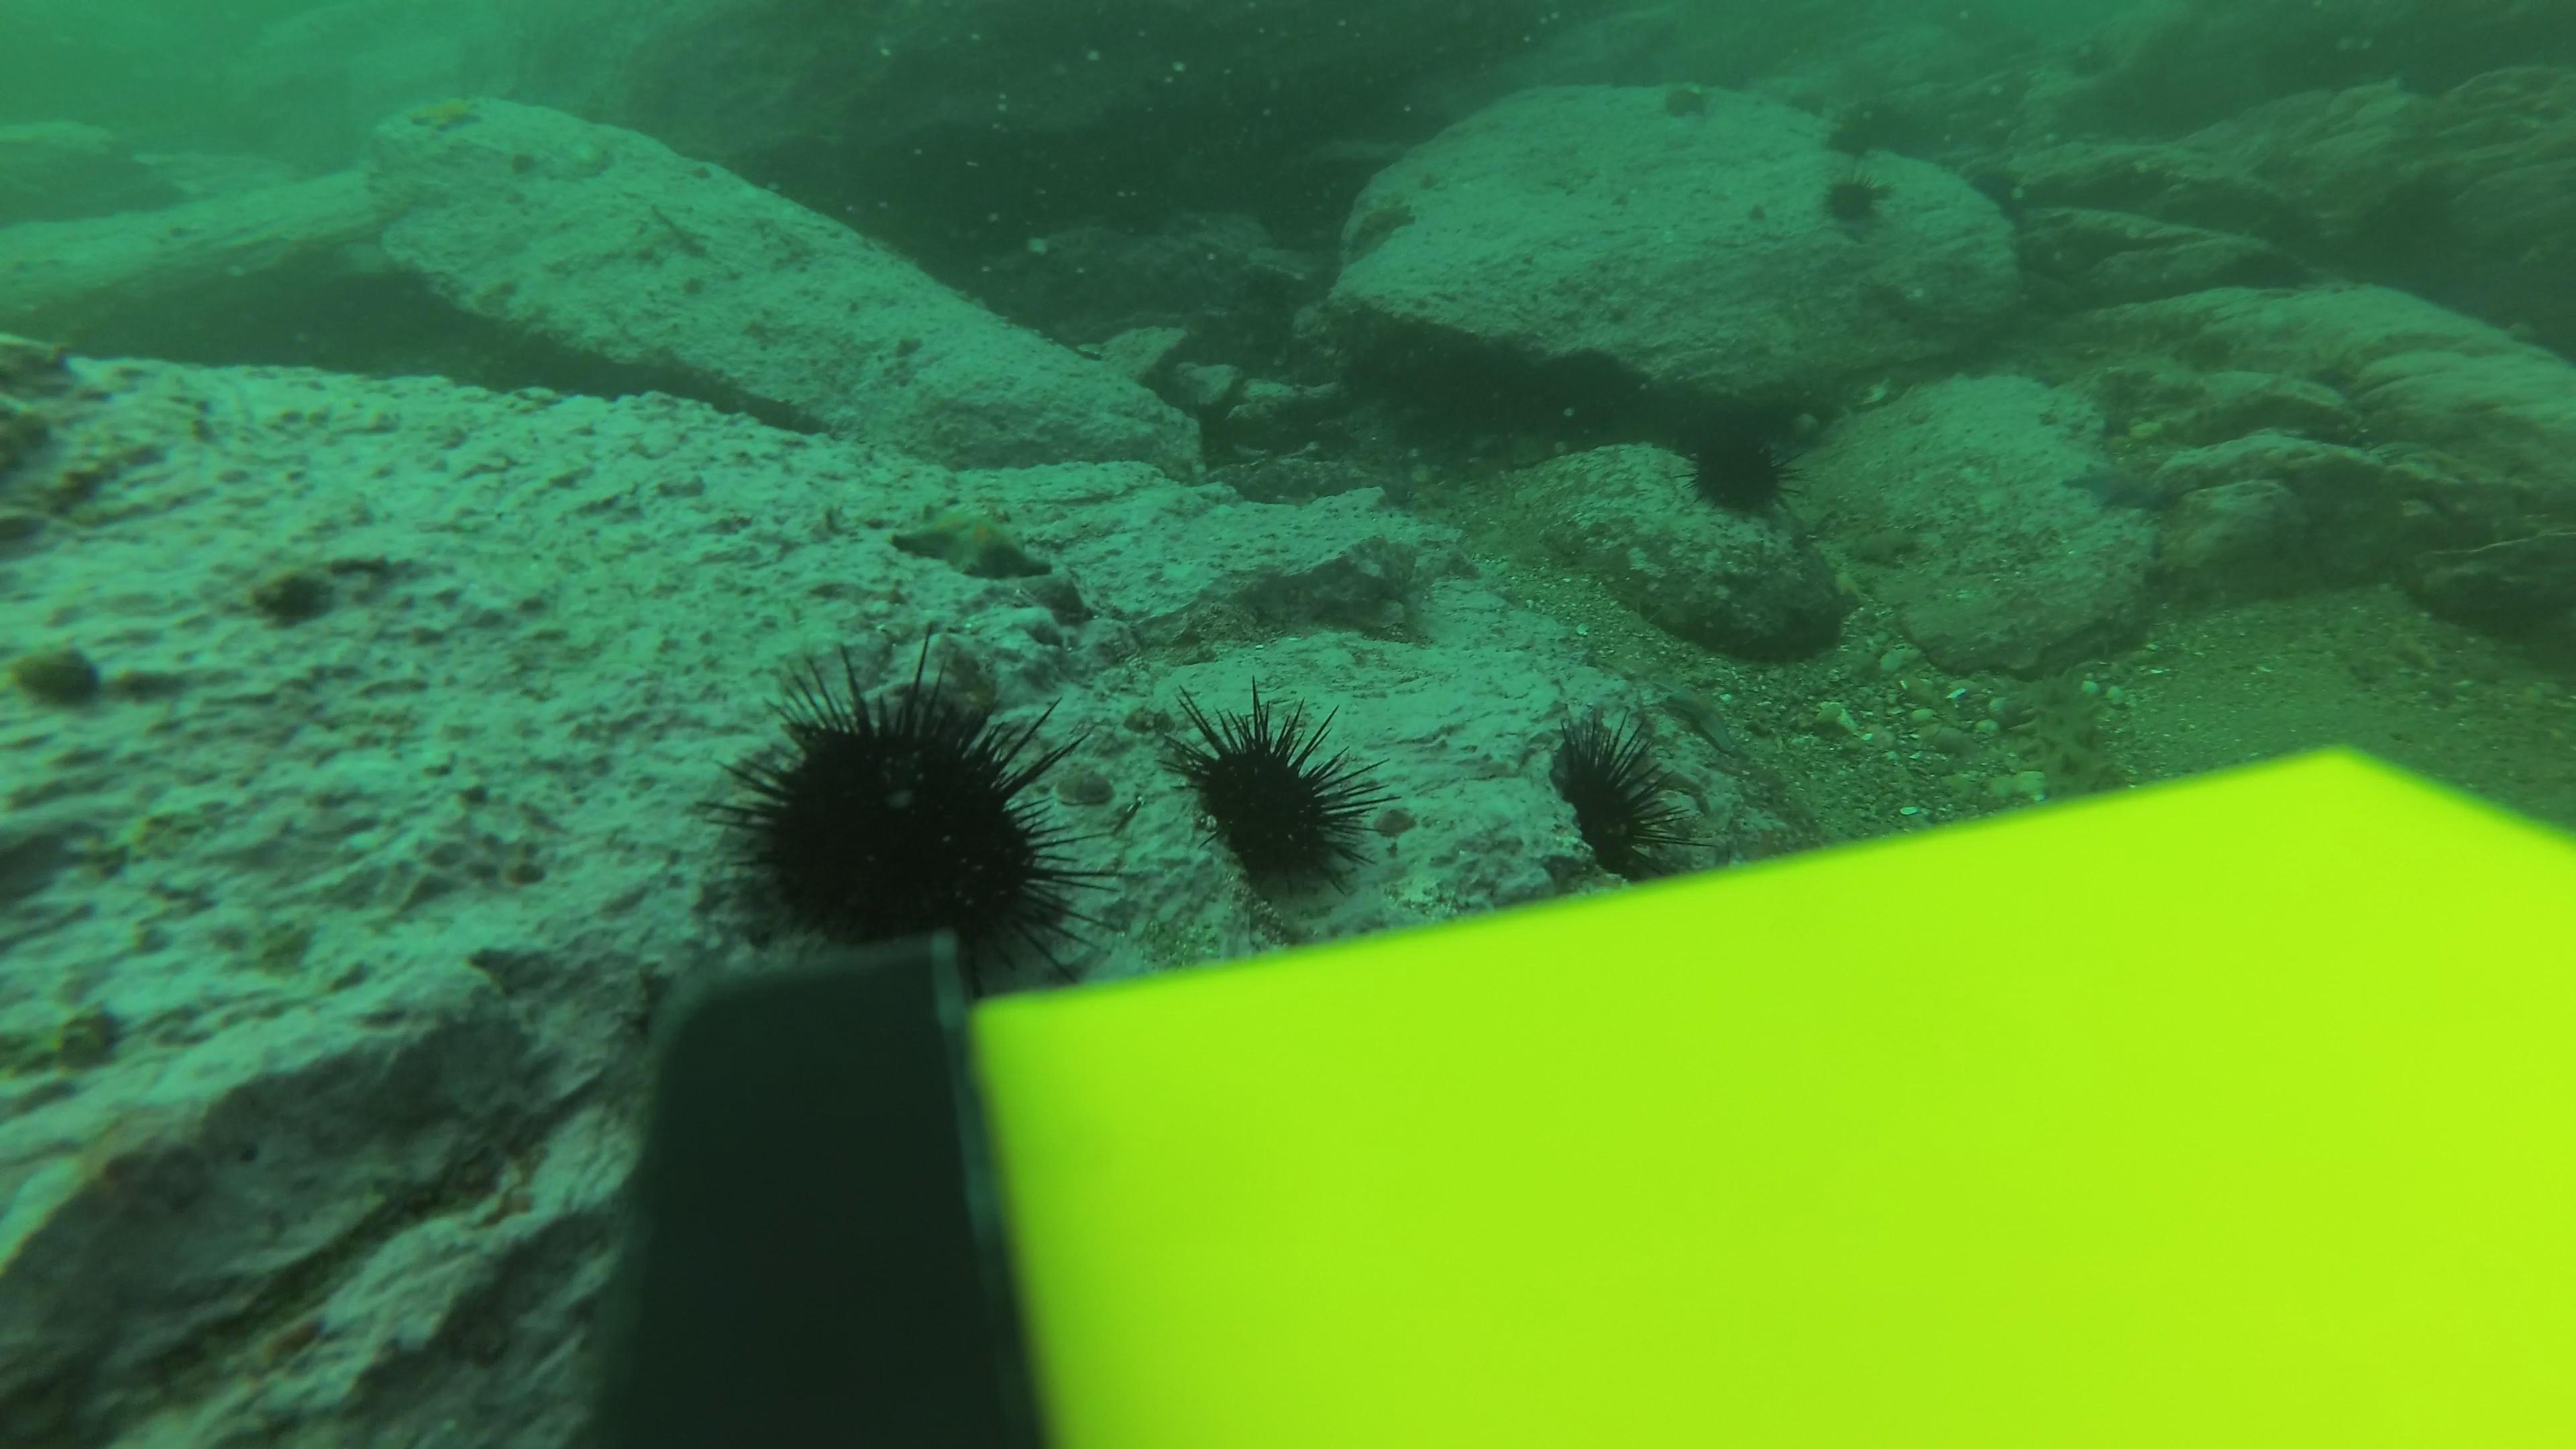urchin: (702, 648, 1108, 968), (1152, 683, 1401, 892), (1529, 699, 1702, 879), (1683, 403, 1833, 525), (1828, 165, 1911, 232), (1819, 108, 1886, 157)
